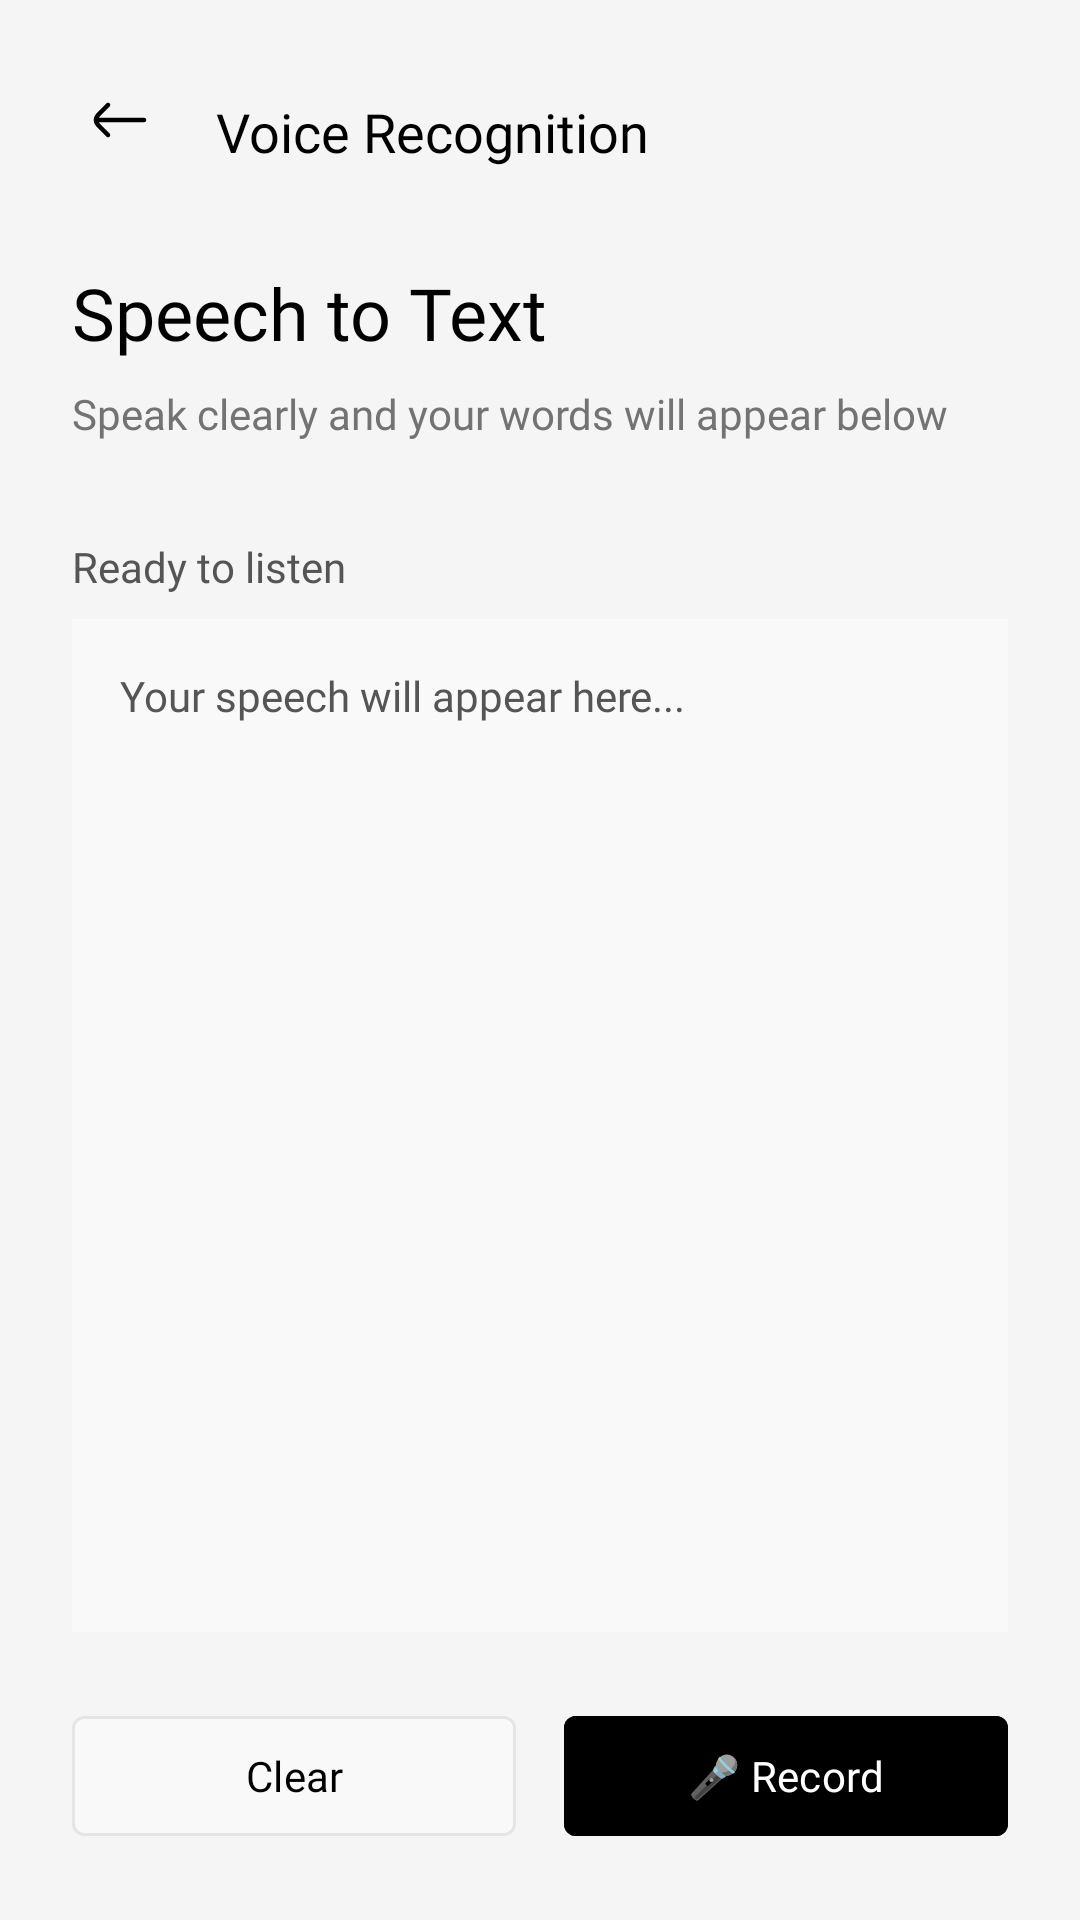

Screen size 1080w x 1920h. Icon name, then its box in pixels as (x1, y1, x2, y2):
Back: (93, 102, 147, 138)
